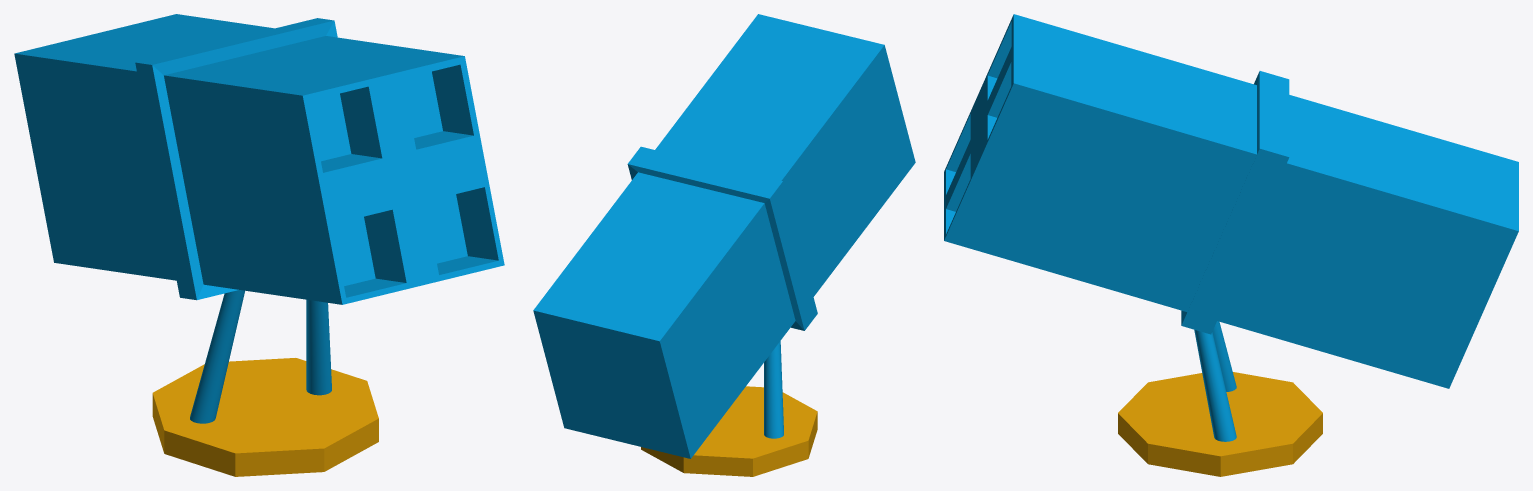
File: Rocketlauncher_samsite_lowpoly.fbx
The picture shows the model from 3 angles, left to right: view 1: azimuth 30°, elevation 25°; view 2: azimuth 150°, elevation 25°; view 3: azimuth 270°, elevation 25°; orthographic projection. The views are drawn at different scales.
Visible parts, largest first — view 1: Rocket_launcher_samsiteLowpoly, Rocket_launcher_samsiteBase_lowpoly1_export; view 2: Rocket_launcher_samsiteLowpoly, Rocket_launcher_samsiteBase_lowpoly1_export; view 3: Rocket_launcher_samsiteLowpoly, Rocket_launcher_samsiteBase_lowpoly1_export.
Part boxes in pixels (<box>): Rocket_launcher_samsiteLowpoly: <box>14,14,504,423</box>; Rocket_launcher_samsiteBase_lowpoly1_export: <box>152,358,378,476</box>; Rocket_launcher_samsiteLowpoly: <box>533,14,915,458</box>; Rocket_launcher_samsiteBase_lowpoly1_export: <box>641,386,817,476</box>; Rocket_launcher_samsiteLowpoly: <box>944,14,1518,441</box>; Rocket_launcher_samsiteBase_lowpoly1_export: <box>1118,372,1322,476</box>.
Bounding box in the file's own units: 205 × 425 × 575.
